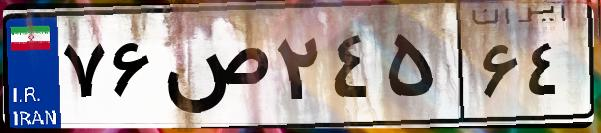2: (270, 28, 330, 110)
4: (330, 28, 385, 110), (525, 38, 570, 115)
5: (385, 28, 445, 110)
6: (475, 38, 525, 113), (110, 28, 158, 98)
7: (57, 26, 110, 100)
ص: (158, 20, 270, 120)
